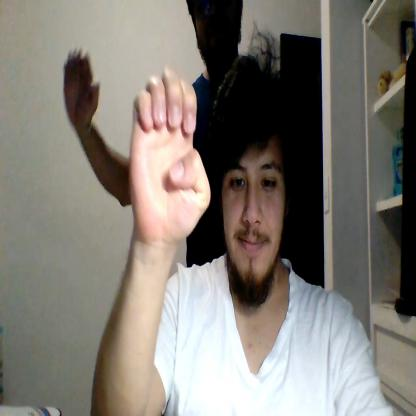E: (129, 66, 211, 240)
